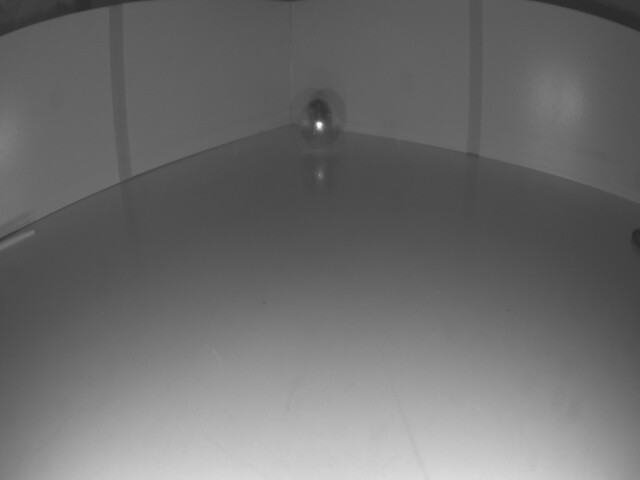Live: (302, 107, 340, 147)
